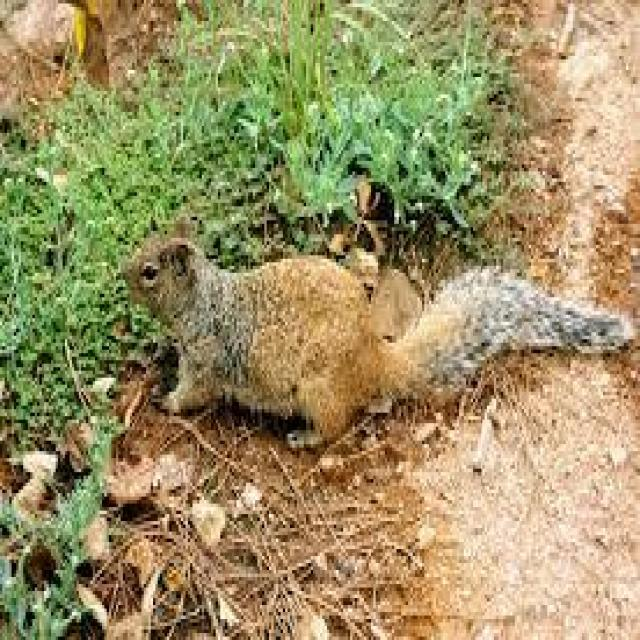license-plate: (120, 206, 640, 436)
